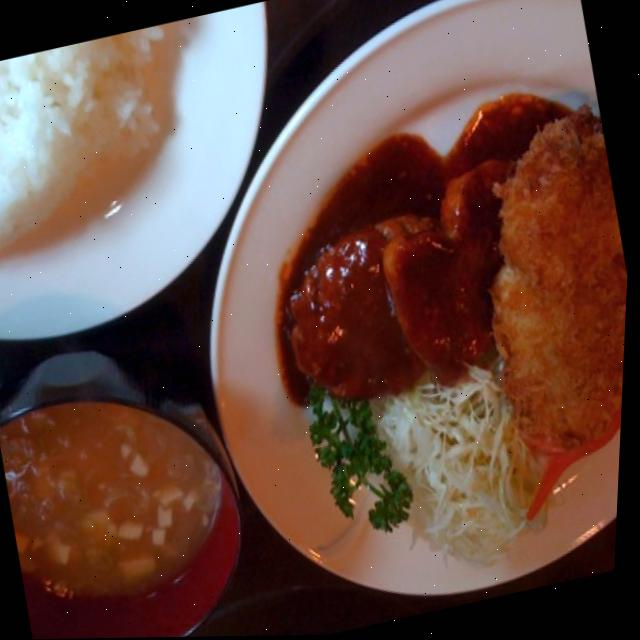炸货点心: (371, 77, 637, 513)
熟制海鲜: (371, 77, 637, 513)
